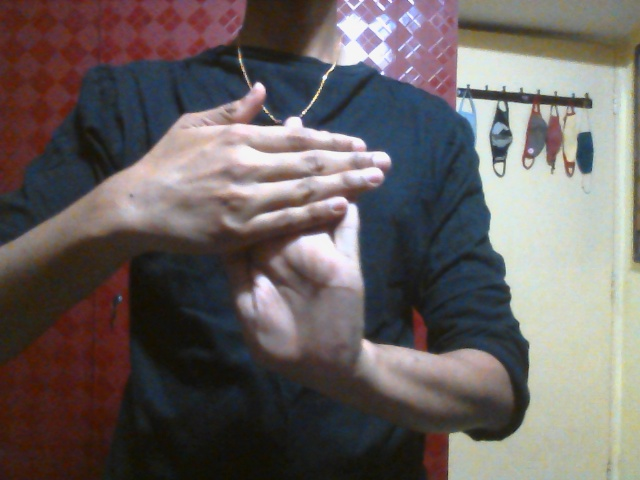H: (134, 81, 391, 376)
